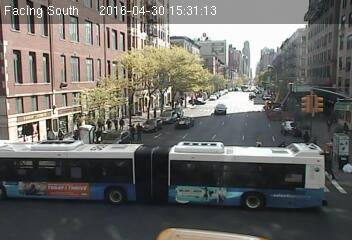neg: (132, 142, 178, 204), (121, 38, 152, 80), (205, 88, 233, 124), (30, 44, 56, 78), (233, 35, 256, 66), (162, 105, 181, 131), (241, 83, 260, 108), (300, 88, 317, 110)
pos: (303, 129, 313, 142), (118, 115, 128, 127), (106, 117, 113, 127), (112, 118, 118, 127)
